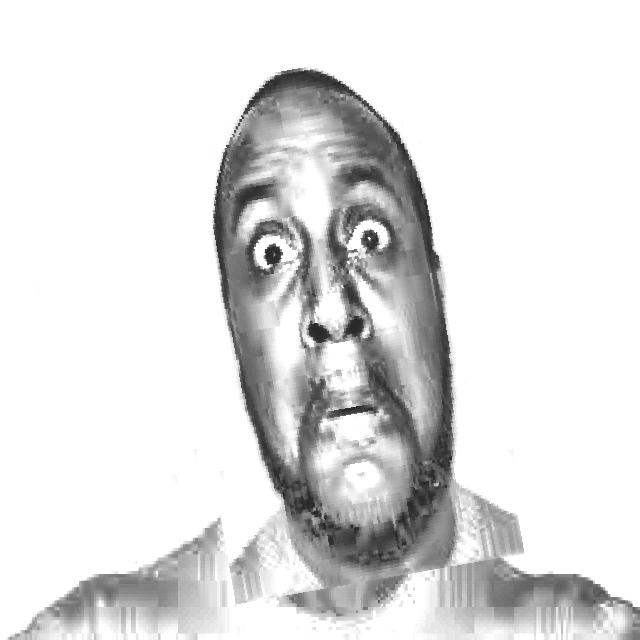surprise: (165, 38, 502, 594)
